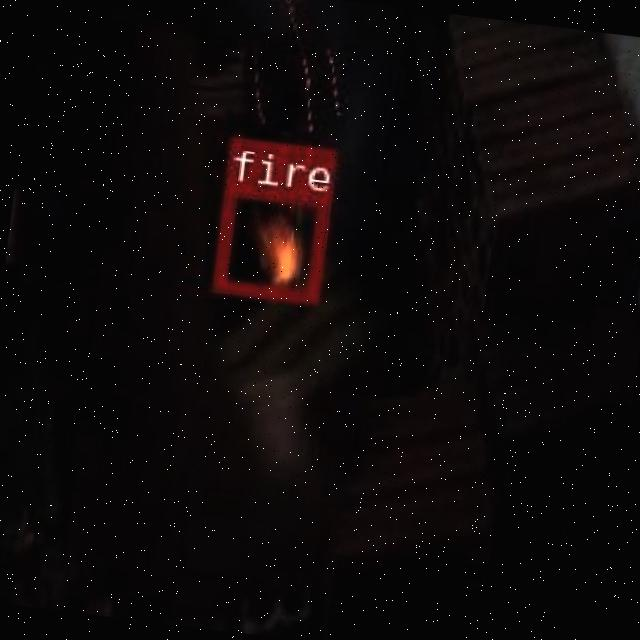fire: (210, 180, 328, 301)
